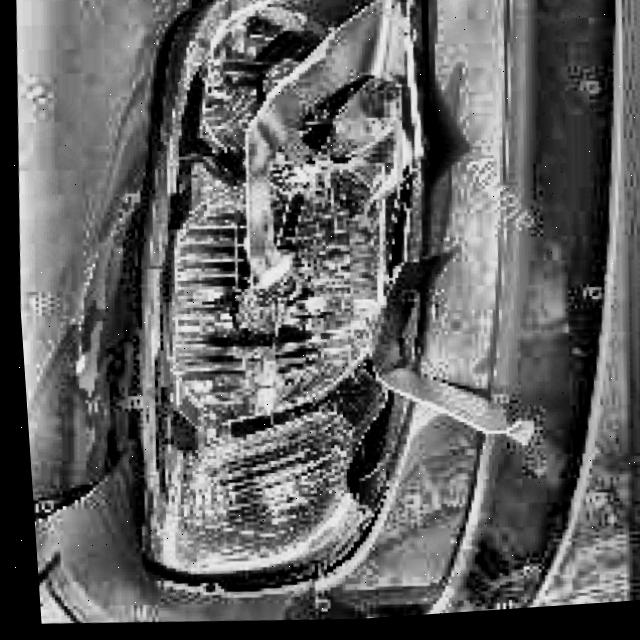head_lamp: (111, 0, 450, 600)
